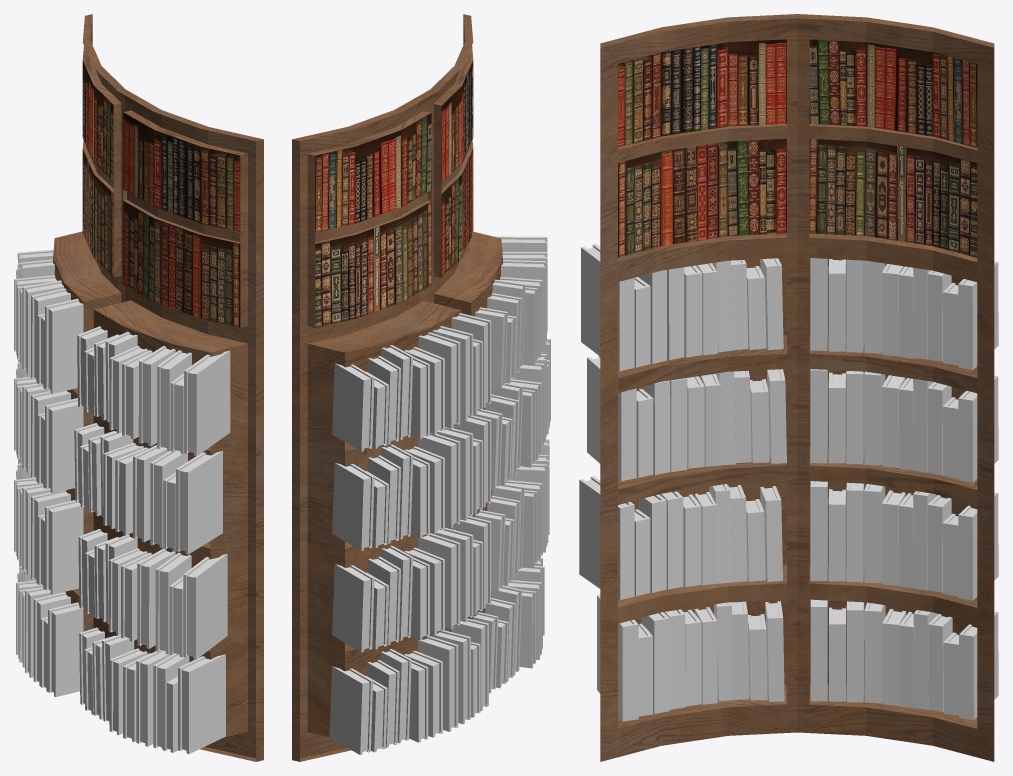
File: pareteNew.fbx
3 renders of one model, left to right at view 1: azimuth 30°, elevation 25°; view 2: azimuth 150°, elevation 25°; view 3: azimuth 270°, elevation 25°, orthographic. The views are drawn at different scales.
Parts seen in each view (by area): view 1: Cylinder, Cube.080, Cube.041, Cube.060, Cube.061, Cube.020, Cube.040, Cube.001, Cube.021, Cube.064, Cube.044, Cube.063 (+52 smaller); view 2: Cylinder, Cube.010, Cube.011, Cube.031, Cube.030, Cube.037, Cube.017, Cube.024, Cube.004, Cube.038, Cube.006, Cube.018 (+59 smaller); view 3: Cylinder, Cube.061, Cube.041, Cube.060, Cube.080, Cube.011, Cube.030, Cube.031, Cube.010, Cube.004, Cube.003, Cube.018 (+69 smaller).
Boxes of the visible parts, x1,y1,x2,y2 form: Cylinder: (53, 14, 263, 761); Cube.080: (178, 654, 225, 753); Cube.041: (184, 350, 230, 456); Cube.060: (176, 451, 222, 554); Cube.061: (183, 553, 227, 659); Cube.020: (45, 500, 83, 594); Cube.040: (45, 298, 83, 393); Cube.001: (48, 602, 83, 697); Cube.021: (45, 398, 83, 493); Cube.064: (137, 548, 175, 648); Cube.044: (138, 346, 175, 446); Cube.063: (155, 552, 191, 654); Cylinder: (292, 14, 502, 761); Cube.010: (329, 666, 372, 754); Cube.011: (332, 564, 374, 652); Cube.031: (332, 363, 374, 451); Cube.030: (332, 463, 374, 550); Cube.037: (418, 332, 460, 428); Cube.017: (418, 533, 460, 629); Cube.024: (418, 433, 460, 528); Cube.004: (418, 636, 458, 731); Cube.038: (432, 326, 473, 421); Cube.006: (409, 660, 428, 742); Cube.018: (432, 527, 473, 621); Cylinder: (600, 14, 994, 761); Cube.061: (579, 476, 634, 600); Cube.041: (581, 244, 634, 371); Cube.060: (587, 356, 636, 480); Cube.080: (597, 595, 638, 721); Cube.011: (958, 492, 998, 600); Cube.030: (958, 376, 998, 482); Cube.031: (958, 261, 998, 369); Cube.010: (959, 611, 998, 720); Cube.004: (864, 602, 885, 703); Cube.003: (846, 601, 864, 702); Cube.018: (846, 482, 864, 582).
Size of the model in its own units: 404 by 2000 by 1064.
